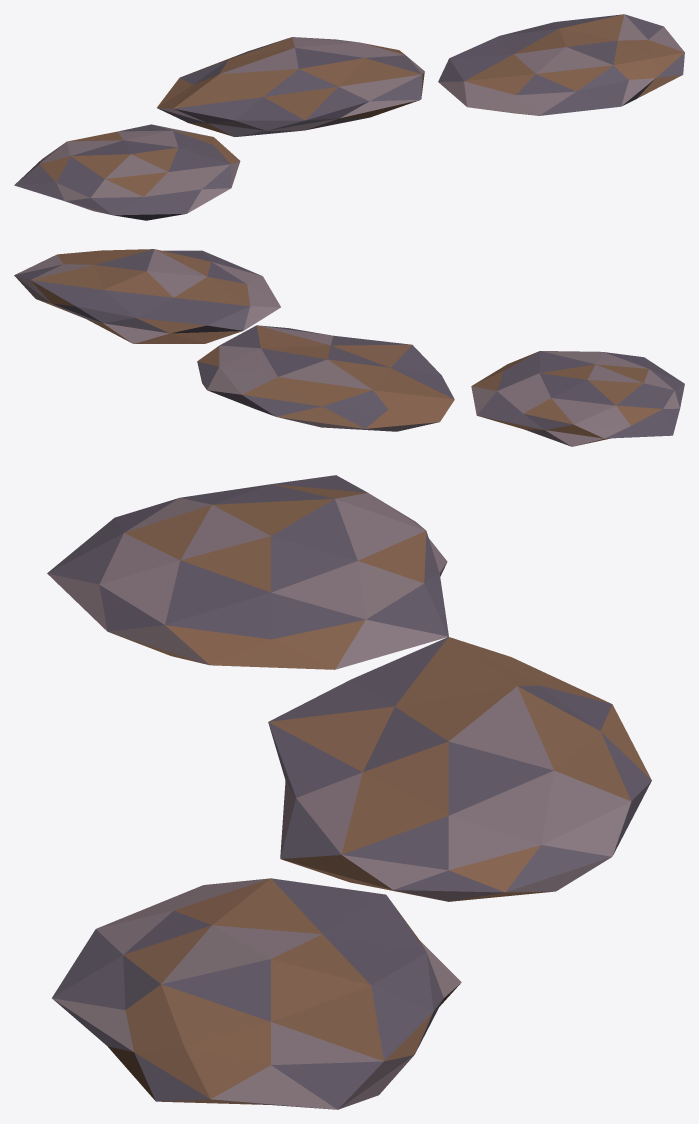
The model's file is grove_stones.glb.
The picture shows the model from 3 angles, top to bottom: view 1: azimuth 30°, elevation 25°; view 2: azimuth 150°, elevation 25°; view 3: azimuth 270°, elevation 25°; orthographic projection. The views are drawn at different scales.
Visible parts, largest first — view 1: grove_stones; view 2: grove_stones; view 3: grove_stones.
Part boxes in pixels (box(x1,y1,x2,y2)): grove_stones: box(14, 14, 684, 220); grove_stones: box(14, 249, 684, 446); grove_stones: box(47, 475, 651, 1109).
Bounding box in the file's own units: 4.23 × 0.2344 × 1.7.
